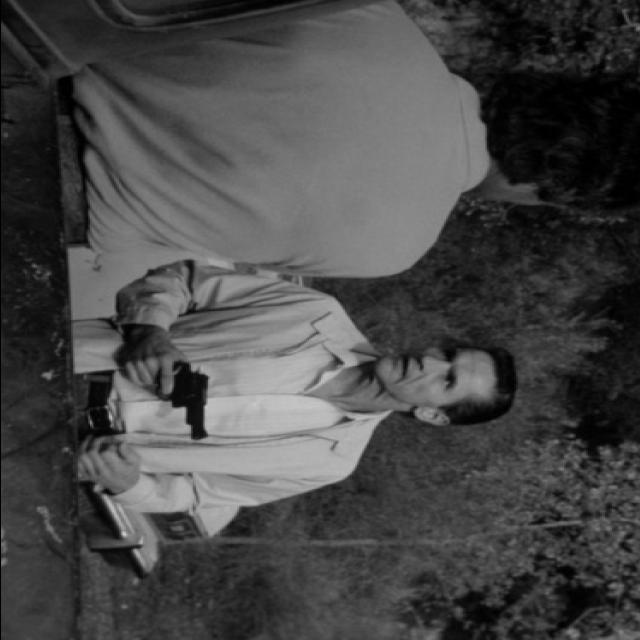weapons: (114, 348, 236, 450)
